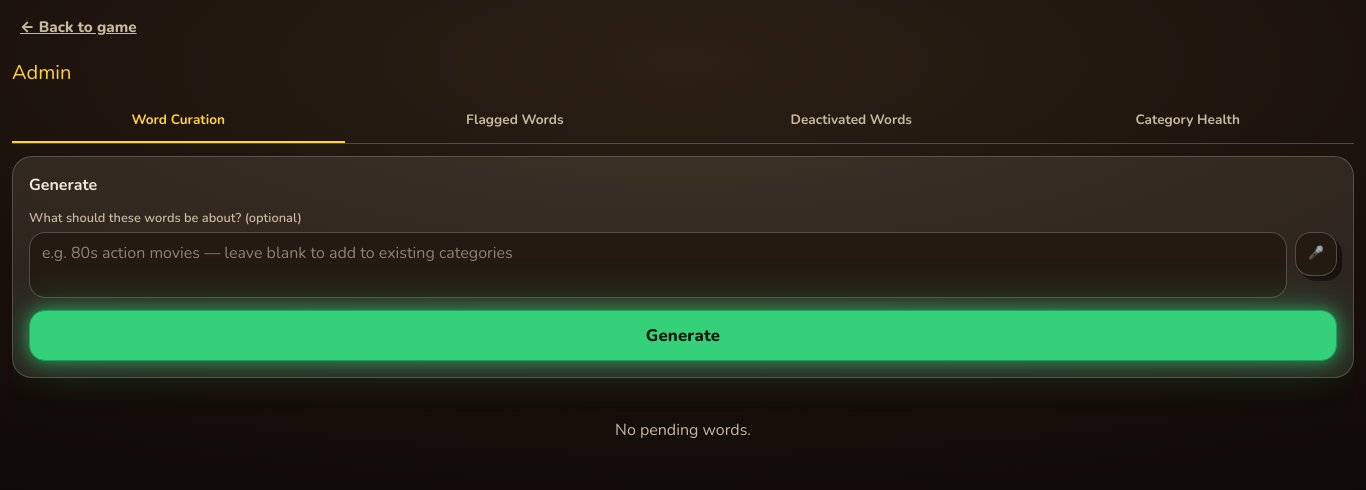
Test: AdminScreen › renders fetched category health data
Expected: the heading "Generate" is shown, [29, 174, 97, 196]
Click the tab "Category Health": (1188,121) [1022, 99, 1354, 143]
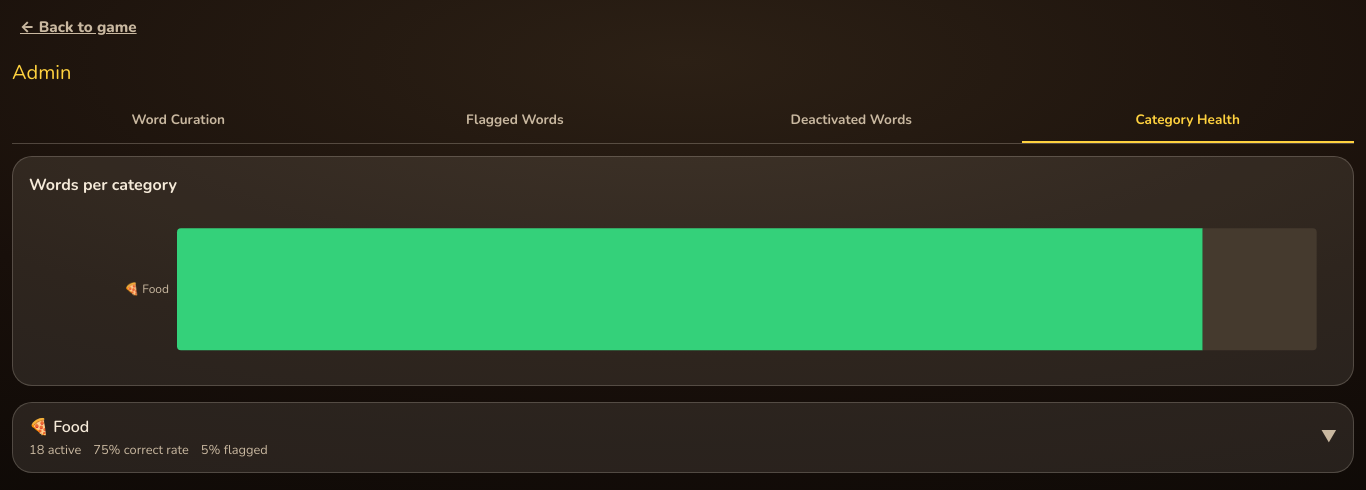
Expected: the 2nd text "🍕 Food" is shown, [29, 416, 89, 438]
Expected: the text "75% correct rate" is shown, [93, 441, 189, 460]
